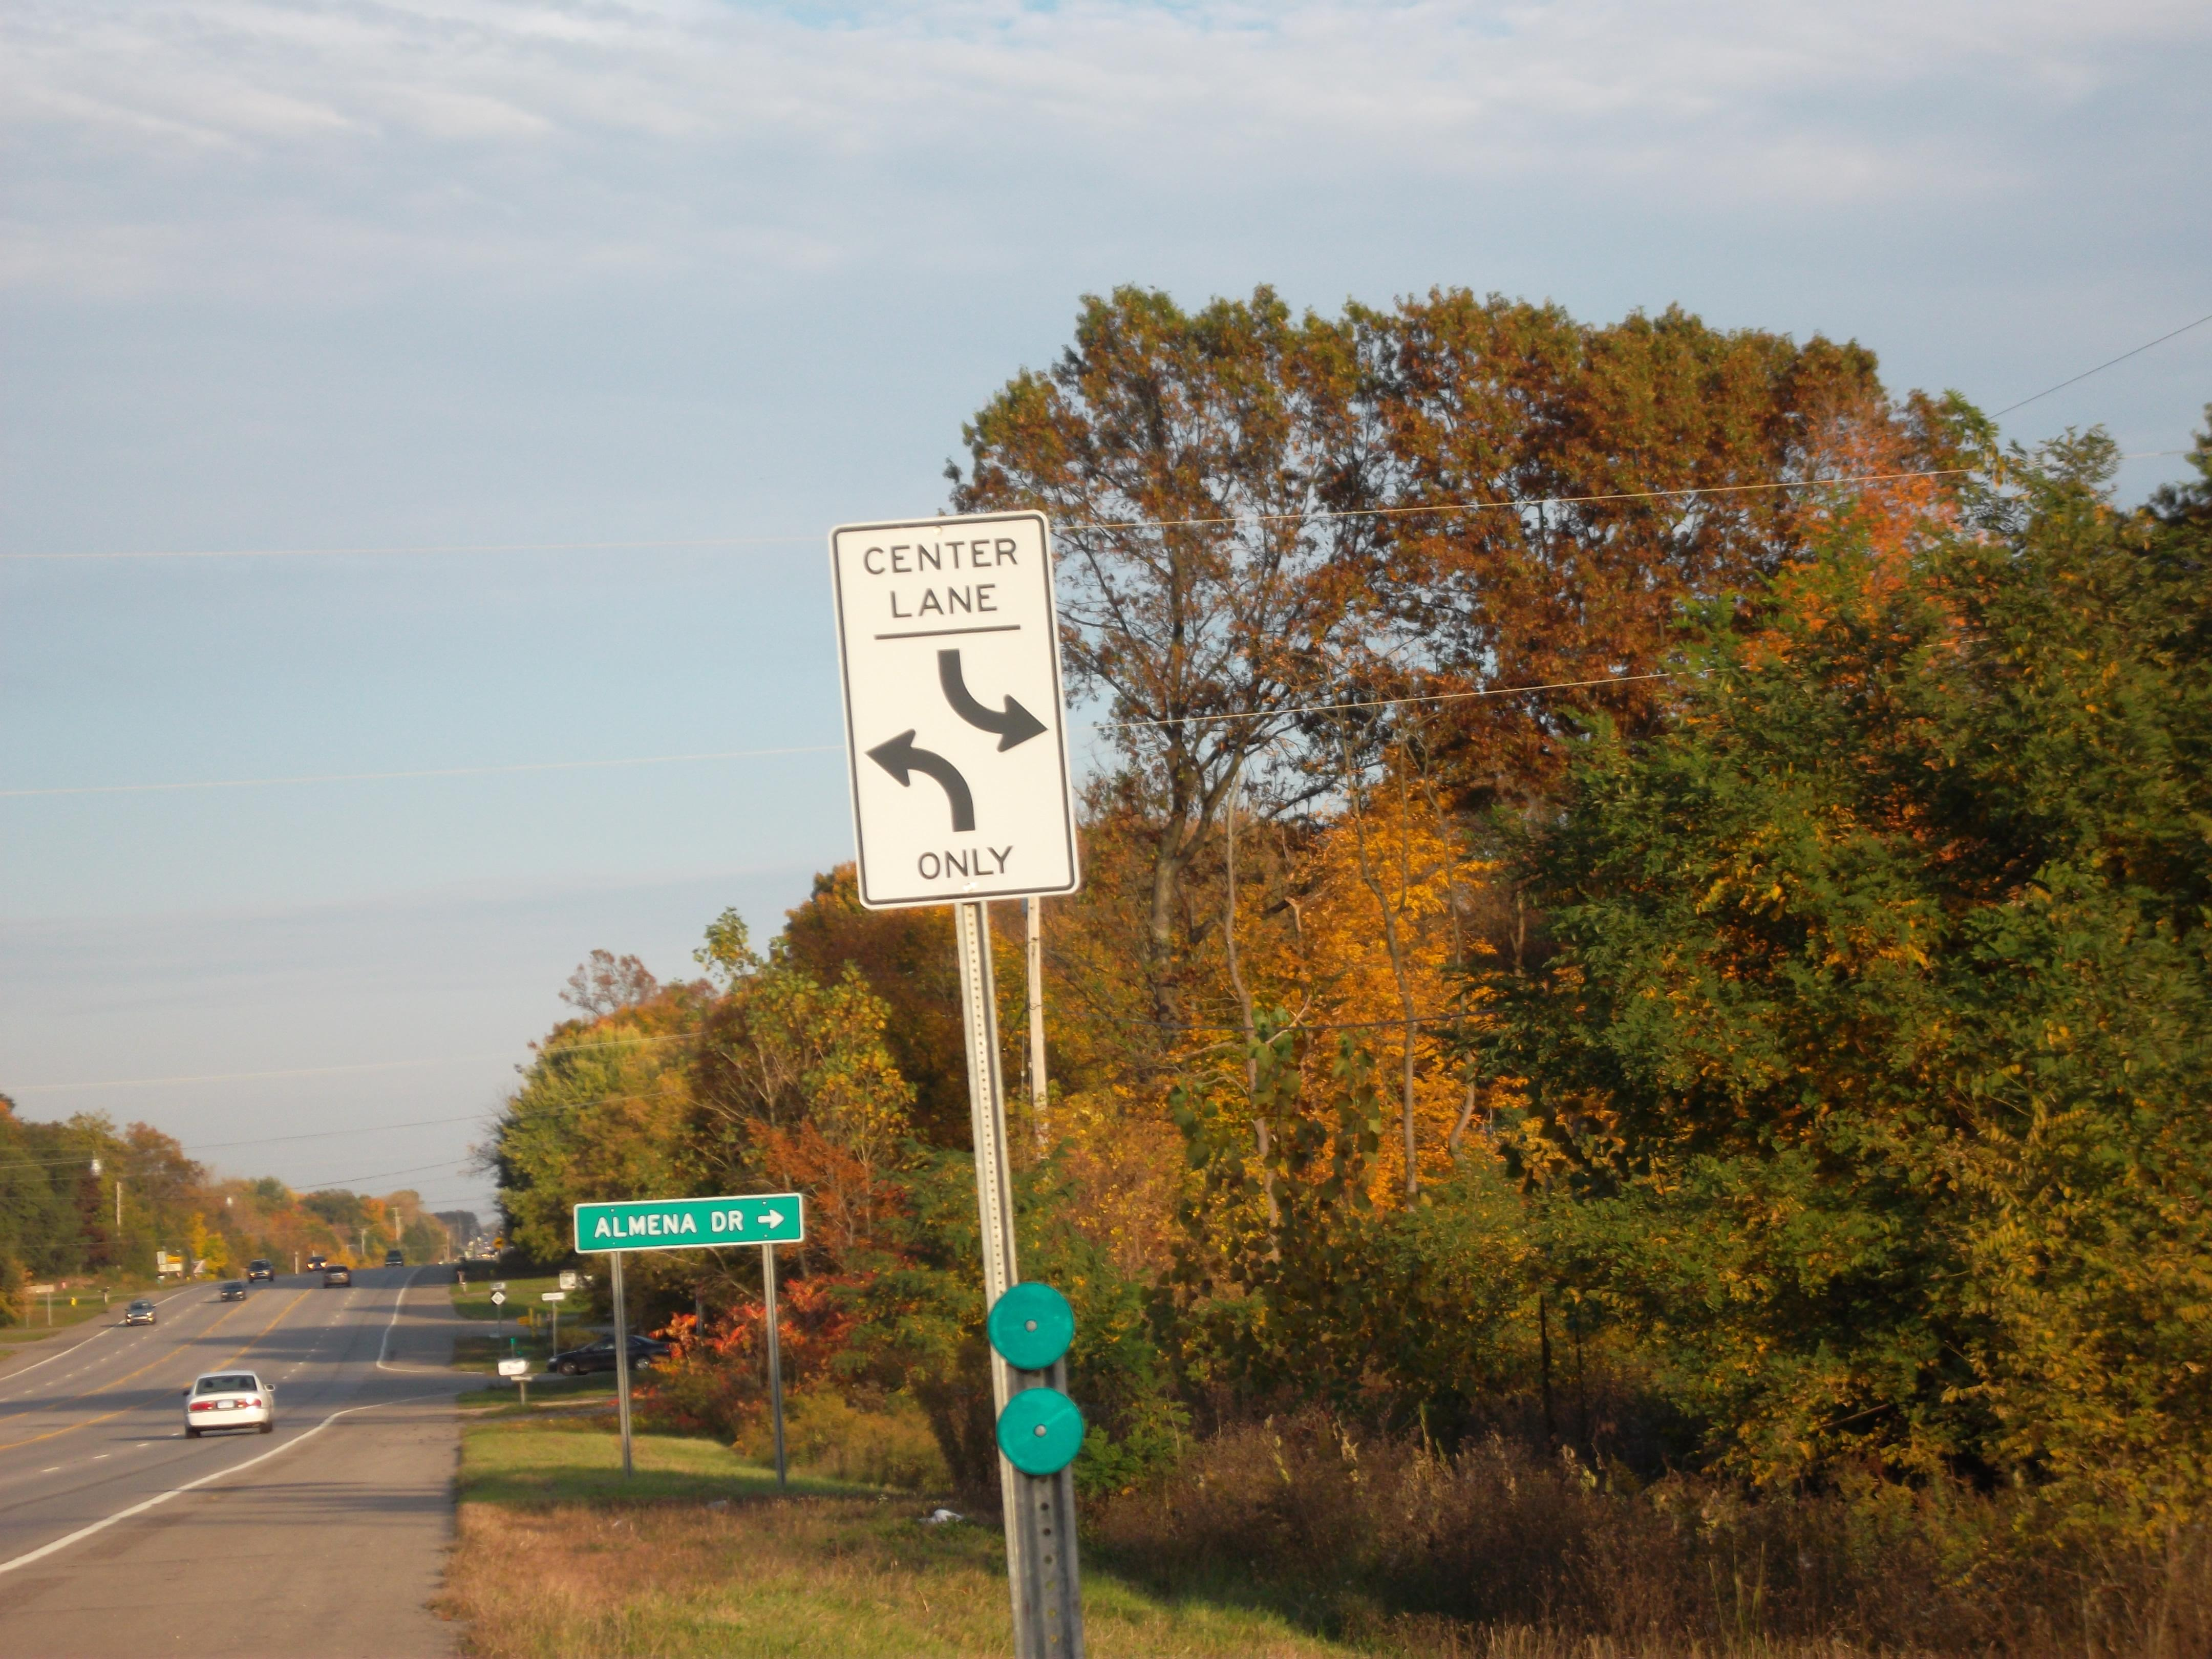regulatory: (833, 502, 1089, 917)
